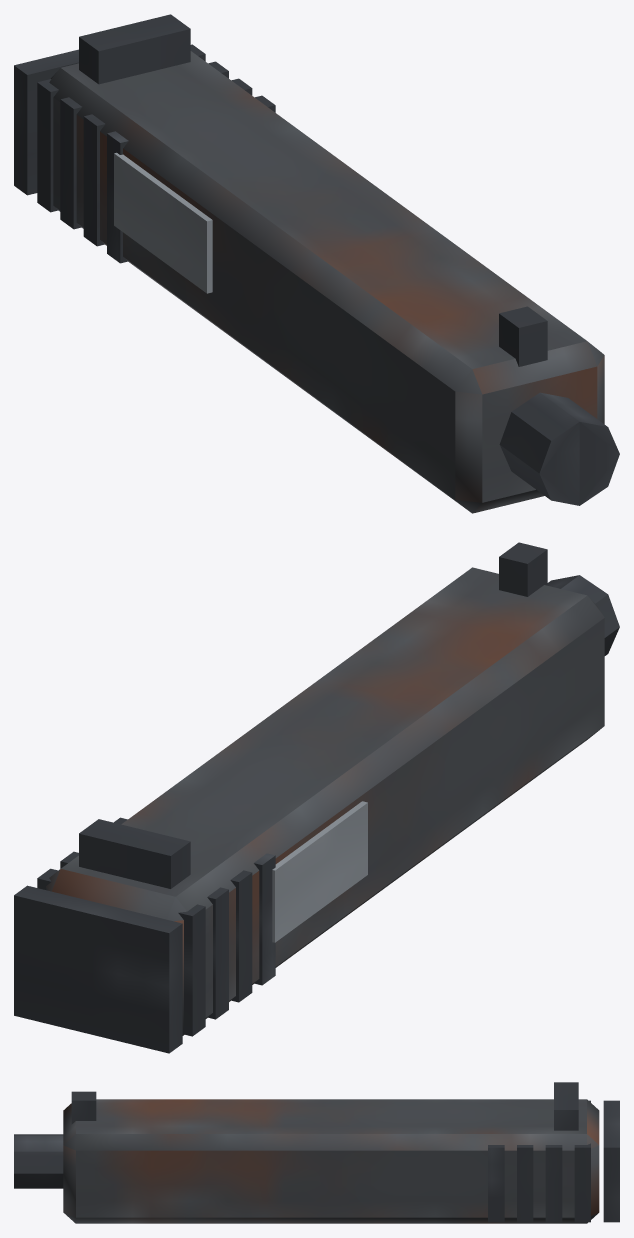
Rendered from SM_Pistol_Slide.fbx.
The picture shows the model from 3 angles, top to bottom: view 1: azimuth 30°, elevation 25°; view 2: azimuth 150°, elevation 25°; view 3: azimuth 270°, elevation 25°; orthographic projection. The views are drawn at different scales.
Parts seen in each view (by area): view 1: SM_Pistol_Slide; view 2: SM_Pistol_Slide; view 3: SM_Pistol_Slide.
Part boxes in pixels (left/top/right/bottom): SM_Pistol_Slide: left=14, top=14, right=619, bottom=513; SM_Pistol_Slide: left=14, top=542, right=619, bottom=1053; SM_Pistol_Slide: left=14, top=1082, right=619, bottom=1223.
Bounding box in the file's own units: 0.275 × 0.295 × 1.47.
1 material, 1 textured.
